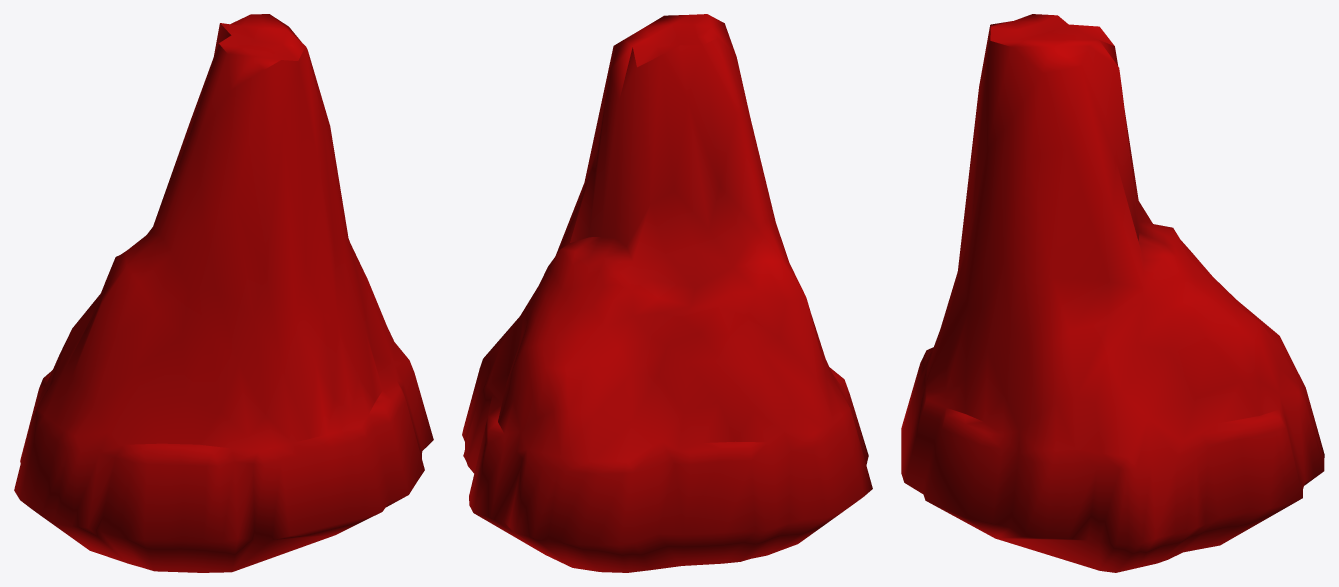
Rendered from geology-landforms-redstonemountain_v5.fbx.
3 views of the same model, side by side, from view 1: azimuth 30°, elevation 25°; view 2: azimuth 150°, elevation 25°; view 3: azimuth 270°, elevation 25° (orthographic). The views are drawn at different scales.
Visible parts, largest first — view 1: RedStoneMountain_v5; view 2: RedStoneMountain_v5; view 3: RedStoneMountain_v5.
Part boxes in pixels (x1,y1,x2,y2): RedStoneMountain_v5: (14,14,433,572); RedStoneMountain_v5: (462,14,872,572); RedStoneMountain_v5: (901,14,1324,572).
Bounding box in the file's own units: 30.13 × 37.26 × 28.65.
